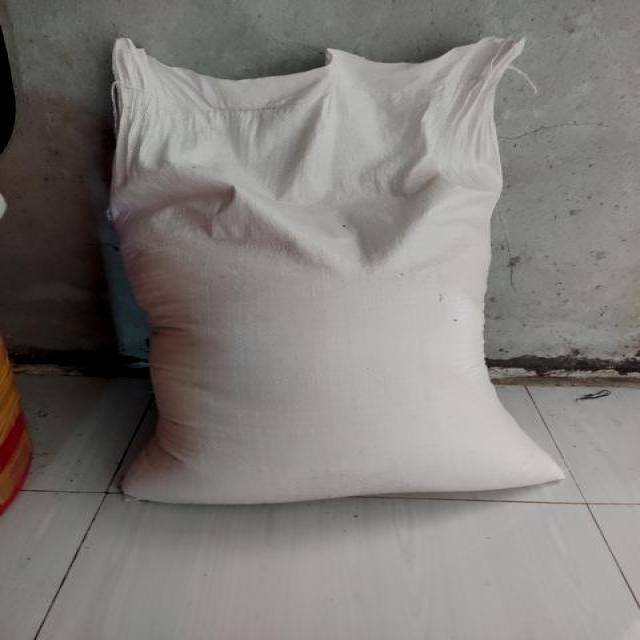gunny_bag: (111, 37, 564, 504)
